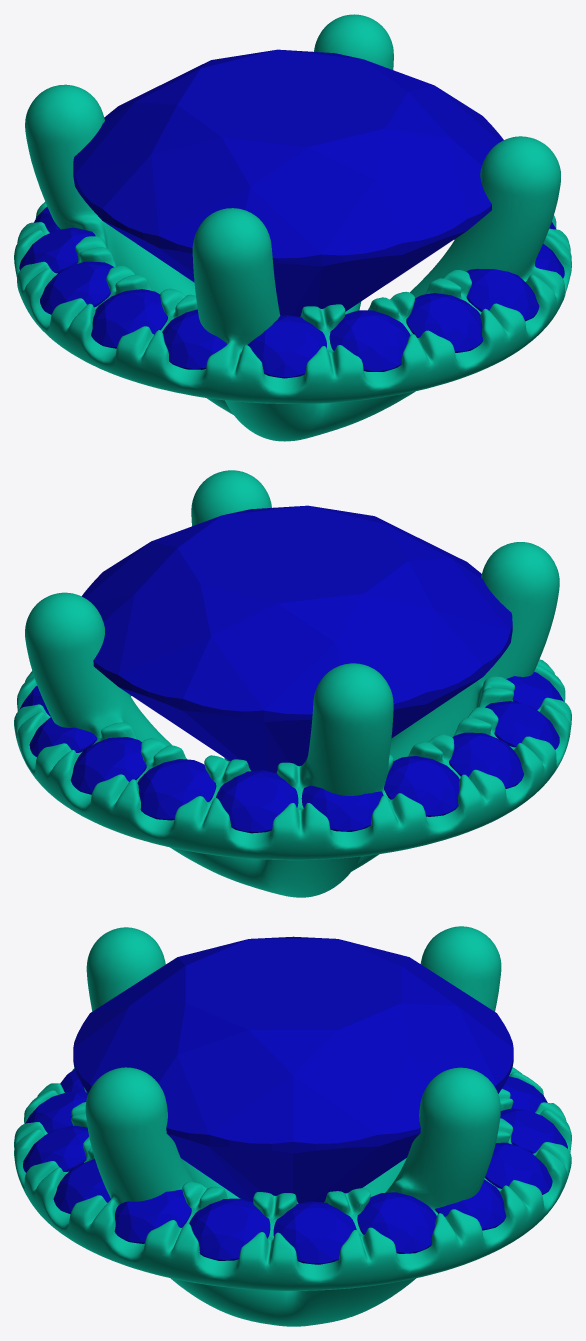
Rendered from Round.glb.
The picture shows the model from 3 angles, top to bottom: view 1: azimuth 30°, elevation 25°; view 2: azimuth 150°, elevation 25°; view 3: azimuth 270°, elevation 25°; orthographic projection.
Visible parts, largest first — view 1: Diamond_Round (×10), /Round Single Halo.3dm; view 2: Diamond_Round (×10), /Round Single Halo.3dm; view 3: Diamond_Round (×12), /Round Single Halo.3dm.
Part boxes in pixels (left/top/right/bottom): Diamond_Round (×10): left=19, top=49, right=564, bottom=378; /Round Single Halo.3dm: left=14, top=14, right=571, bottom=441; Diamond_Round (×10): left=29, top=505, right=563, bottom=833; /Round Single Halo.3dm: left=14, top=470, right=571, bottom=897; Diamond_Round (×12): left=23, top=936, right=567, bottom=1264; /Round Single Halo.3dm: left=14, top=926, right=571, bottom=1326.
Size of the model in its own units: 10.08 by 6.71 by 10.06.
